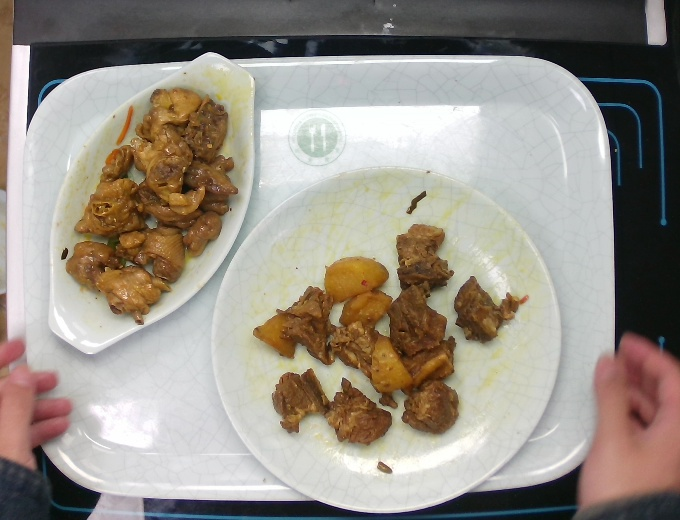JYsf-Da_Yuan_Pan: (208, 165, 563, 516)
JYsf-Yu_Pan: (45, 50, 257, 356)
